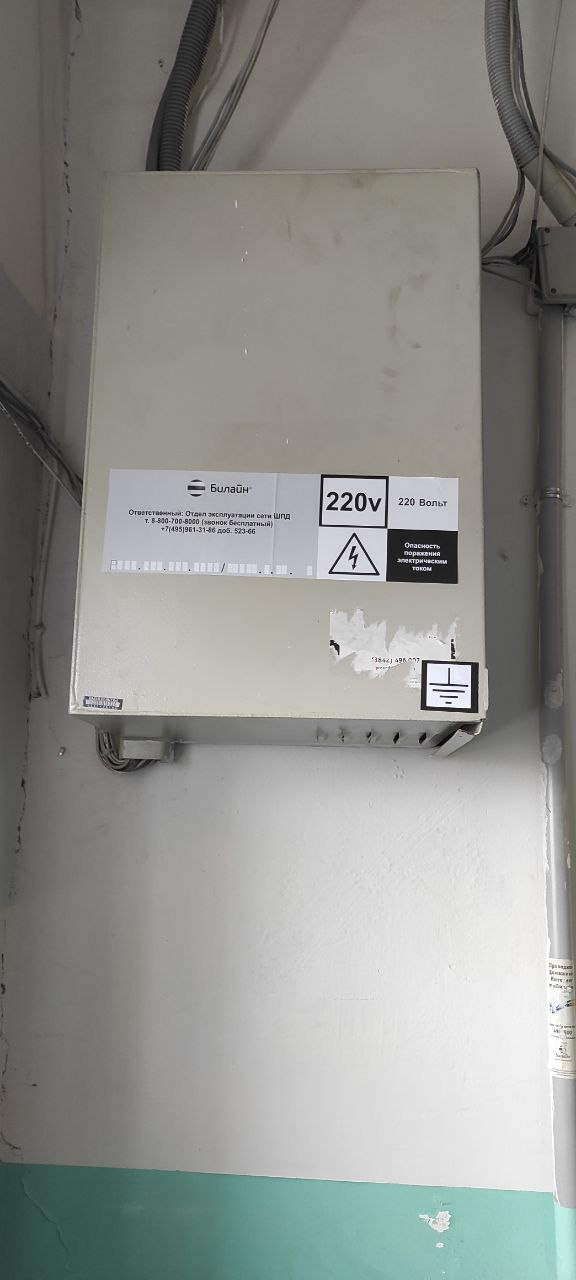sv-5: (59, 153, 500, 759)
